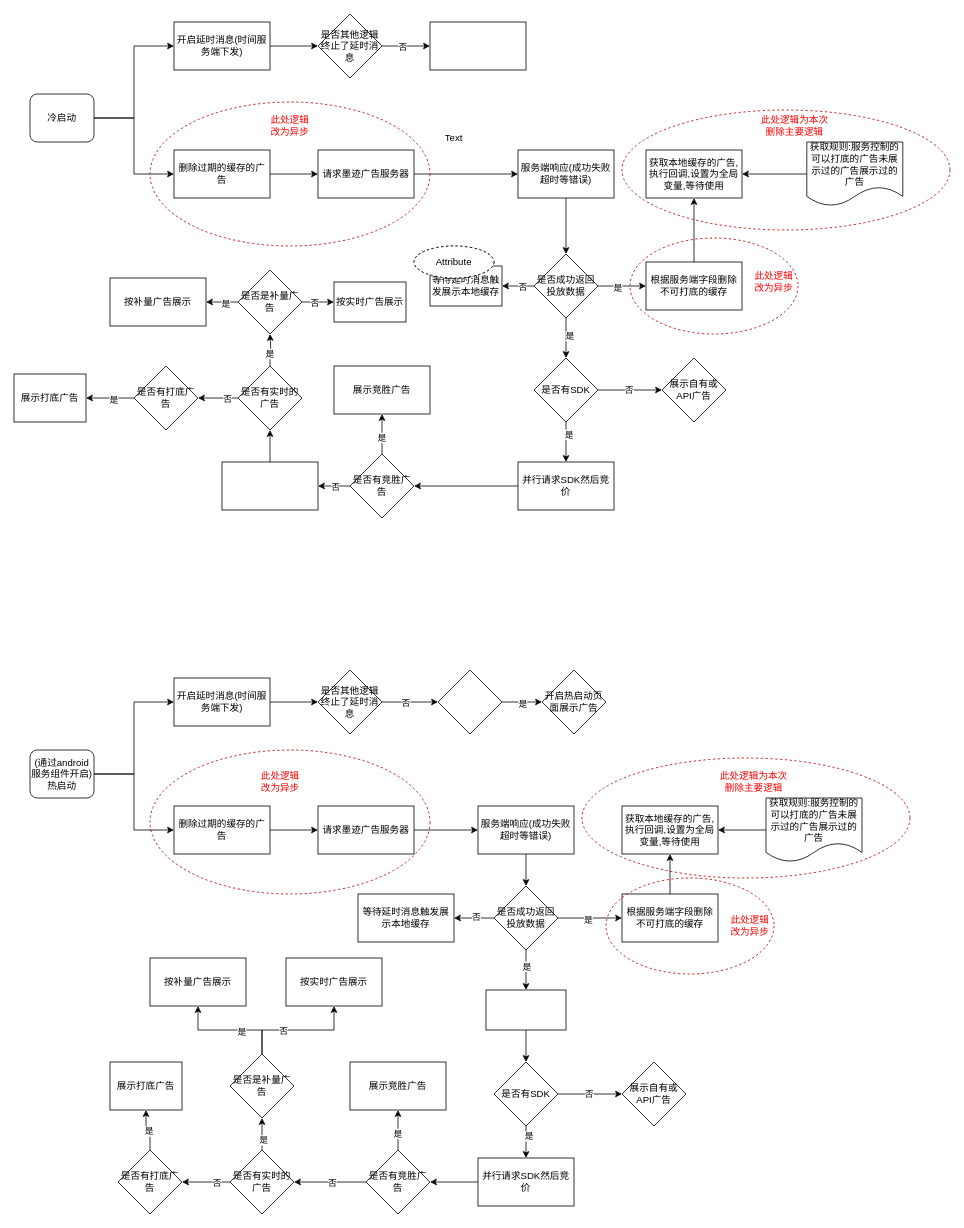
Image size: 964x1228. Some labels were removed from this diagram. Each missing label, with the box of its shape:
关闭延时消息,立马发出实时消息,触发展示广告: (221, 461, 318, 510)
关闭延时消息开启热启动页面进行下一步逻辑: (485, 989, 566, 1030)
执行消息,优先判断是否有实时或补量广告,否则取本地缓存广告展示: (429, 21, 526, 70)
是否可用的广告(实时或缓存): (437, 669, 502, 734)
